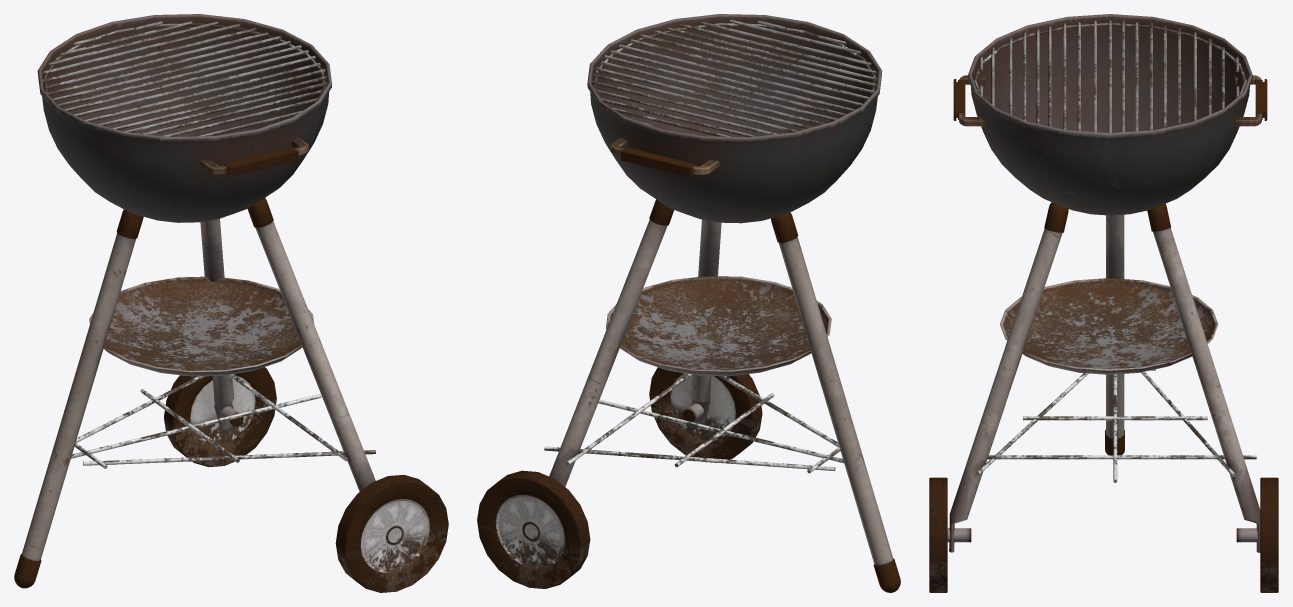
Rendered from charcoal-grill-base.glb.
3 views of the same model, side by side, from view 1: azimuth 30°, elevation 25°; view 2: azimuth 150°, elevation 25°; view 3: azimuth 270°, elevation 25° (orthographic). The views are drawn at different scales.
Visible parts, largest first — view 1: polySurface1, polySurface7, pCylinder8, pSphere4, pCylinder37, pSphere5, pSphere7, pCylinder10, pCylinder12, polySurface2_Plastic_0.001, pCylinder16, pCylinder17 (+17 smaller); view 2: polySurface1, polySurface7, pCylinder37, pSphere4, pCylinder8, pSphere7, pSphere5, pCylinder11, pCylinder12, polySurface2_Plastic_0.002, pCylinder16, pCylinder27 (+17 smaller); view 3: polySurface1, polySurface7, pSphere5, pSphere7, pCylinder37, pCylinder8, pSphere4, pCylinder13, pCylinder15, pTorus1, pCylinder10, pCylinder11 (+3 smaller).
Part boxes in pixels (x1,y1,x2,y2): polySurface1: (37, 14, 331, 222); polySurface7: (89, 276, 314, 376); pCylinder8: (335, 475, 448, 592); pSphere4: (14, 209, 143, 588); pCylinder37: (164, 367, 276, 467); pSphere5: (247, 198, 375, 491); pSphere7: (200, 218, 234, 430); pCylinder10: (83, 450, 375, 465); pCylinder12: (71, 394, 321, 458); polySurface2_Plastic_0.001: (224, 147, 298, 176); pCylinder16: (64, 50, 308, 111); pCylinder17: (57, 45, 301, 106); polySurface1: (587, 14, 882, 223); polySurface7: (606, 276, 831, 376); pCylinder37: (477, 470, 590, 588); pSphere4: (771, 212, 900, 592); pCylinder8: (649, 367, 762, 462); pSphere7: (549, 199, 673, 486); pSphere5: (690, 219, 721, 424); pCylinder11: (544, 446, 835, 471); pCylinder12: (598, 399, 843, 463); polySurface2_Plastic_0.002: (621, 147, 695, 177); pCylinder16: (610, 50, 855, 111); pCylinder27: (619, 44, 862, 106); polySurface1: (968, 14, 1252, 215); polySurface7: (1000, 278, 1218, 374); pSphere5: (949, 202, 1068, 552); pSphere7: (1147, 203, 1260, 552); pCylinder37: (1236, 477, 1278, 592); pCylinder8: (929, 477, 971, 592); pSphere4: (1105, 214, 1124, 455); pCylinder13: (987, 455, 1256, 459); pCylinder15: (1023, 416, 1207, 420); pTorus1: (974, 23, 1246, 95); pCylinder10: (976, 373, 1088, 475); pCylinder11: (1141, 371, 1235, 476).
Size of the model in its own units: 0.5743 by 0.7754 by 0.5352.
Materials: 5 (5 with a texture image).
